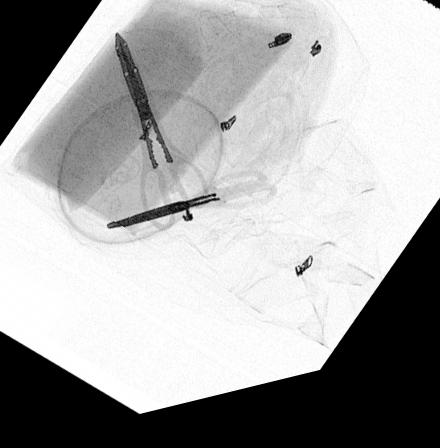Scissors: (114, 34, 209, 239), (104, 180, 278, 235)
